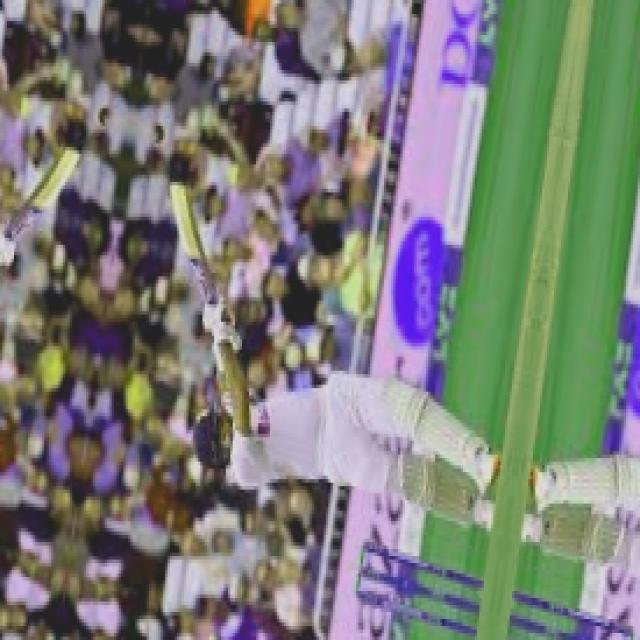toe: (163, 176, 195, 201)
